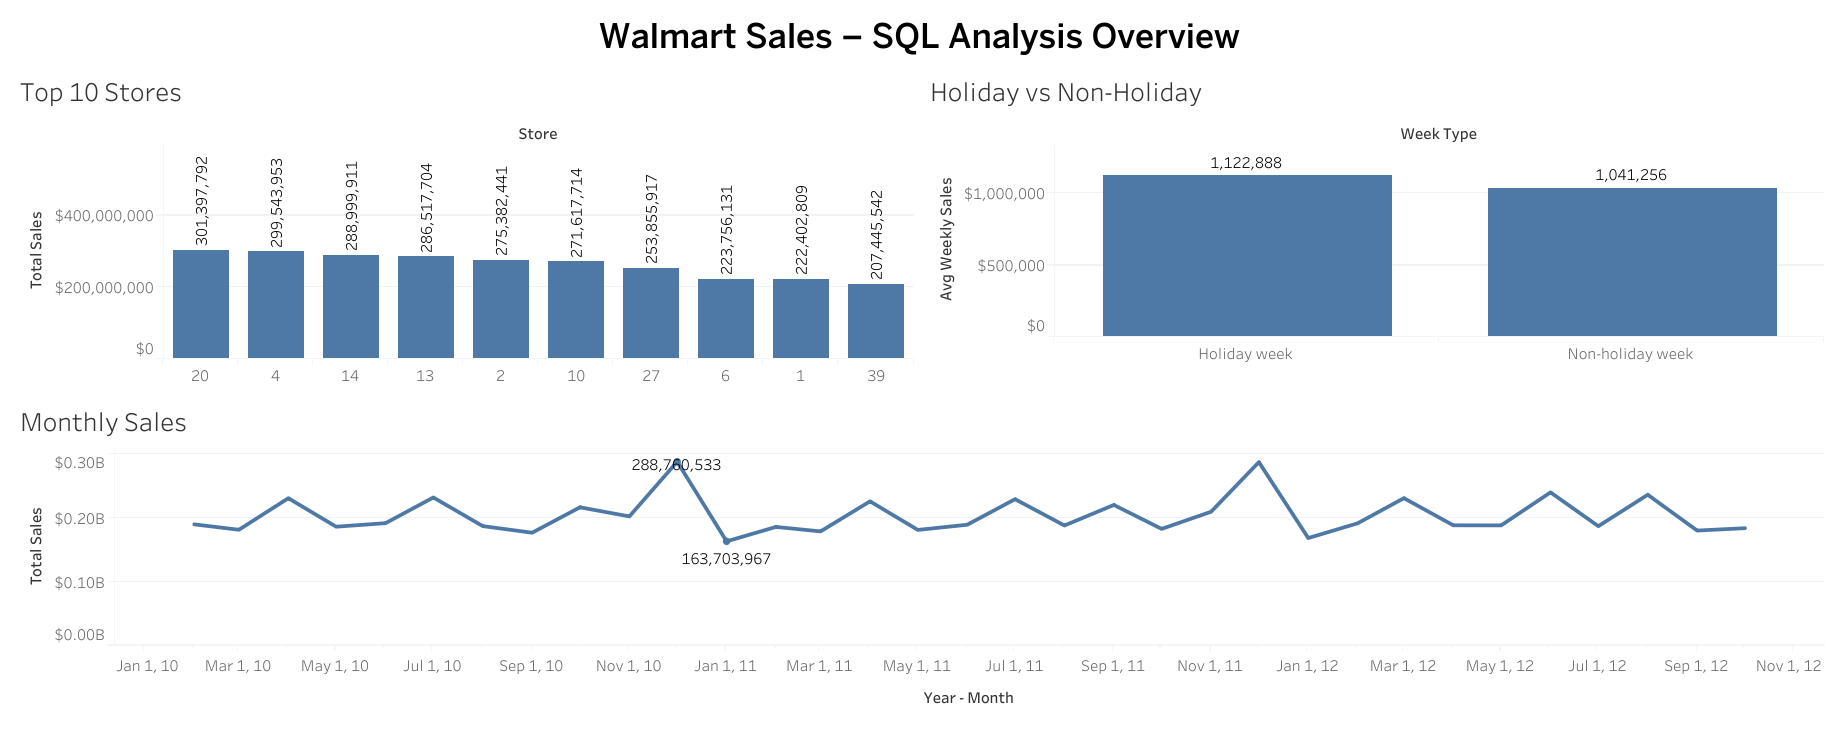

This screenshot's page, from the dashboard's own definition file:
{"tool":"tableau","page":{"name":"Walmart Sales – SQL Analysis Overview","canvas":[1000,1000],"units":"permille","ordinal":0},"visuals":[{"type":"title","box":[4.8,10,990.3,59.9]},{"type":"worksheet","title":"Top 10 Stores","mark":"Bar","rows":["total_sales"],"cols":["Store"],"box":[4.8,69.9,495.2,460]},{"type":"worksheet","title":"Holiday vs Non-Holiday","mark":"Automatic","rows":["avg_weekly_sales"],"cols":["week_type"],"box":[500,69.9,495.2,460]},{"type":"worksheet","title":"Monthly Sales","mark":"Line","rows":["total_sales"],"cols":["Calculation_283726788703686656"],"box":[4.8,530,990.3,460.1]}]}

Visuals, with their boxes on the dashboard's canvas, which has no fixed pixel size, in thousandths of its width and height (x1, y1, x2, y2). These are canvas units, not pixel positions in the 1838x730 screenshot, which may show the page scaled, cropped or inside an application window:
title: bbox=(5, 10, 995, 70)
"Top 10 Stores" worksheet (Bar marks): bbox=(5, 70, 500, 530)
"Holiday vs Non-Holiday" worksheet: bbox=(500, 70, 995, 530)
"Monthly Sales" worksheet (Line marks): bbox=(5, 530, 995, 990)
